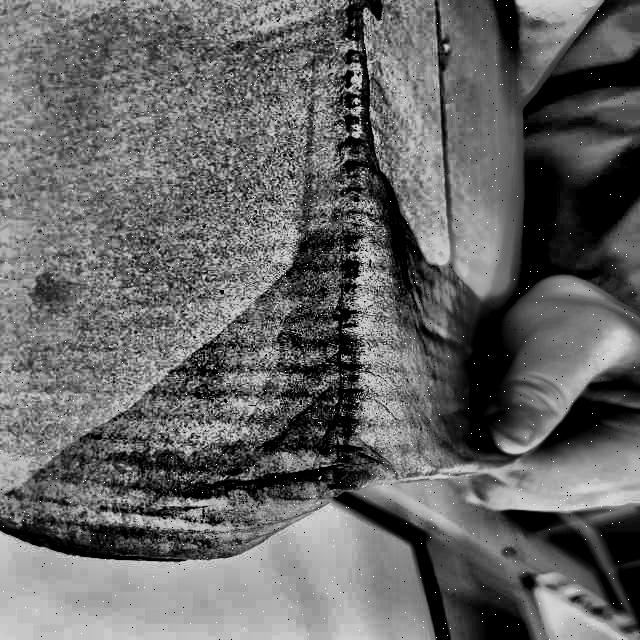box: (1, 1, 532, 579)
wet: (1, 214, 475, 561)
